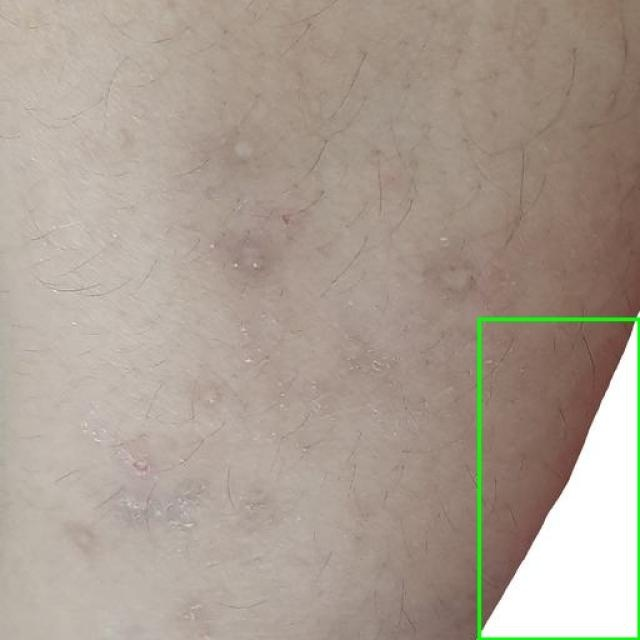Scabies: (479, 319, 639, 639)
